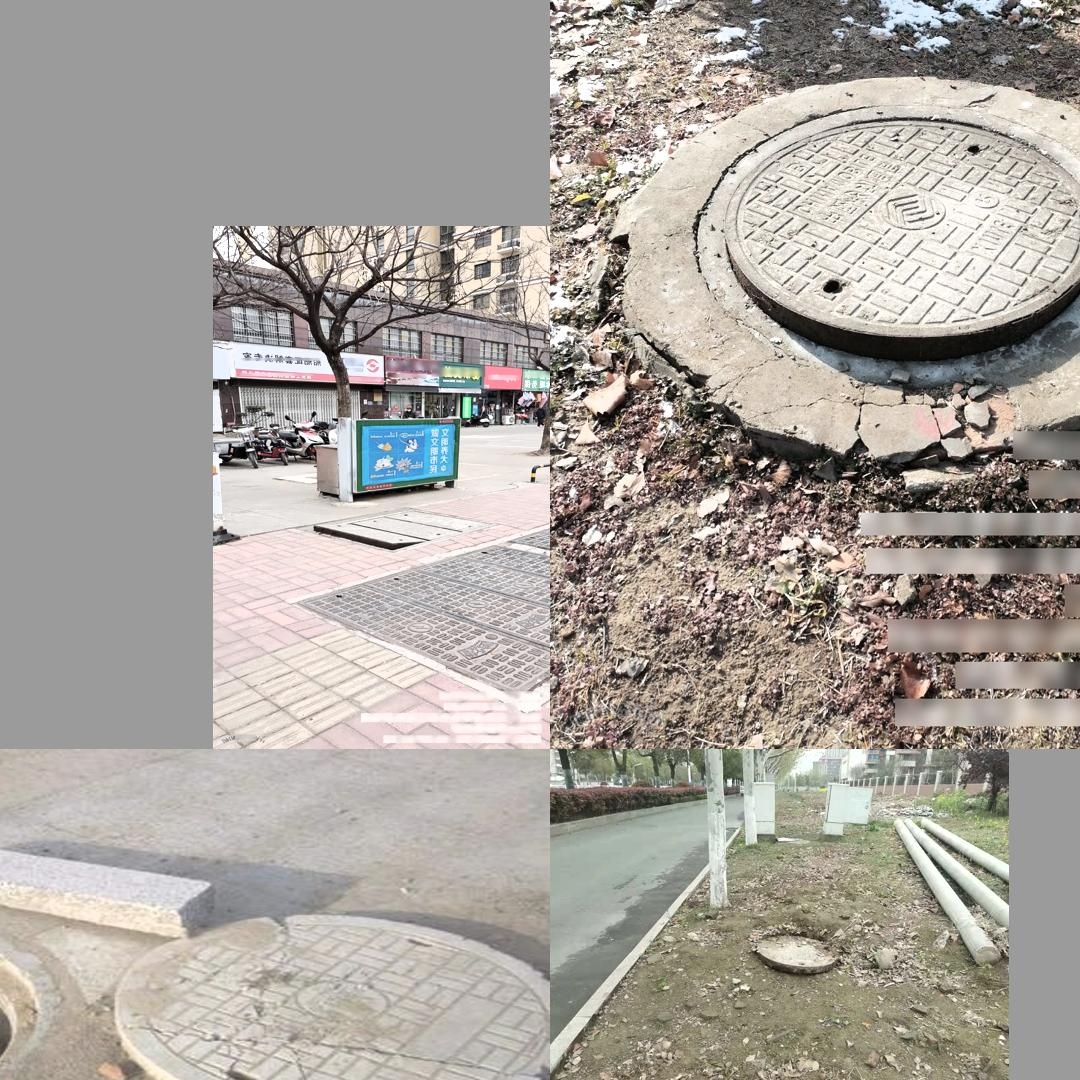uncovered: (691, 104, 1080, 386), (0, 903, 541, 1080), (309, 508, 498, 551), (756, 937, 839, 975)
